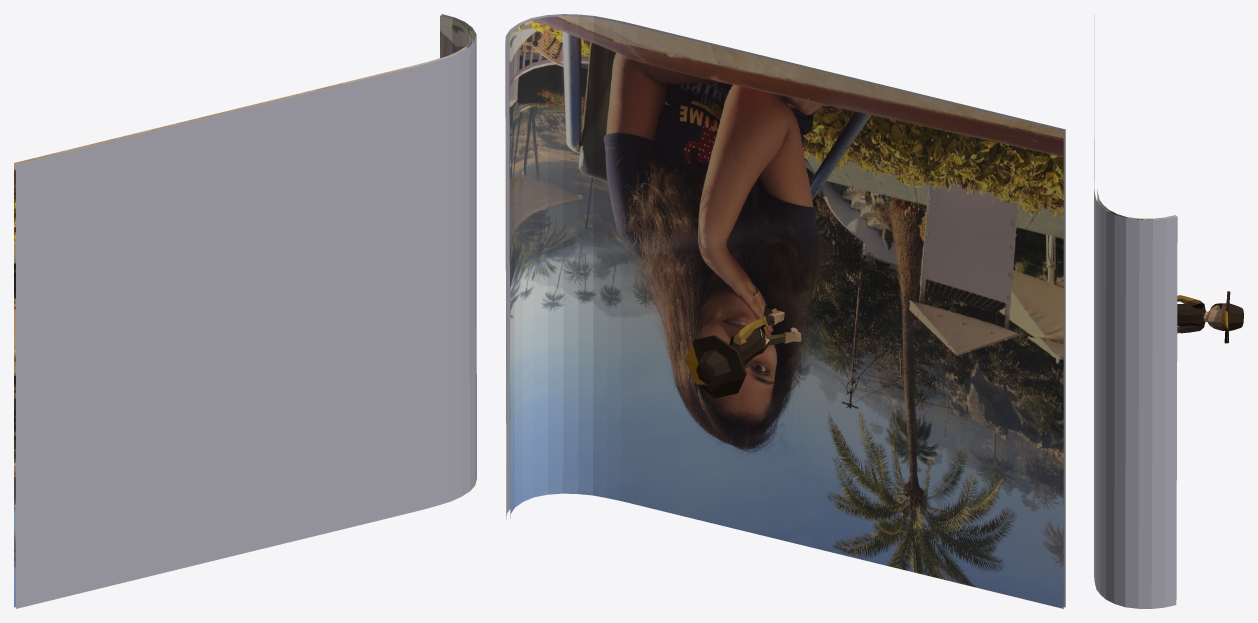
Rendered from start_file2_000069.obj.
The picture shows the model from 3 angles, left to right: view 1: azimuth 30°, elevation 25°; view 2: azimuth 150°, elevation 25°; view 3: azimuth 270°, elevation 25°; orthographic projection. The views are drawn at different scales.
Visible parts, largest first — view 1: Cube_Cube.001; view 2: Cube_Cube.001, Character_Cube; view 3: Cube_Cube.001, Character_Cube.
Boxes of the visible parts, box(x1,y1,x2,y2) form: Cube_Cube.001: box(14, 14, 476, 608); Cube_Cube.001: box(505, 14, 1065, 608); Character_Cube: box(685, 305, 801, 398); Cube_Cube.001: box(1094, 14, 1177, 608); Character_Cube: box(1177, 291, 1243, 343).
Bounding box in the file's own units: 1.73 × 1.52 × 0.5324.
Materials: 2 (2 with a texture image).
